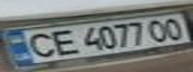0: (97, 22, 118, 50)
4: (78, 24, 103, 52)
7: (112, 20, 133, 48), (127, 19, 148, 46)
C: (18, 29, 60, 60)
E: (45, 26, 81, 57)
O: (145, 17, 175, 43), (160, 16, 190, 40)
